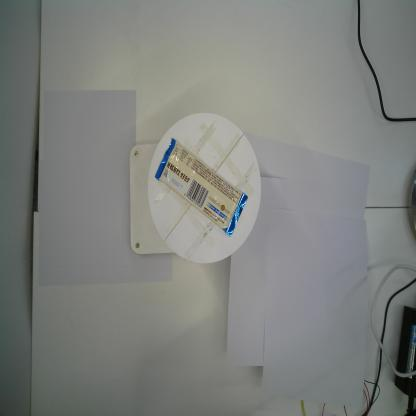Chocolate: (154, 138, 249, 238)
